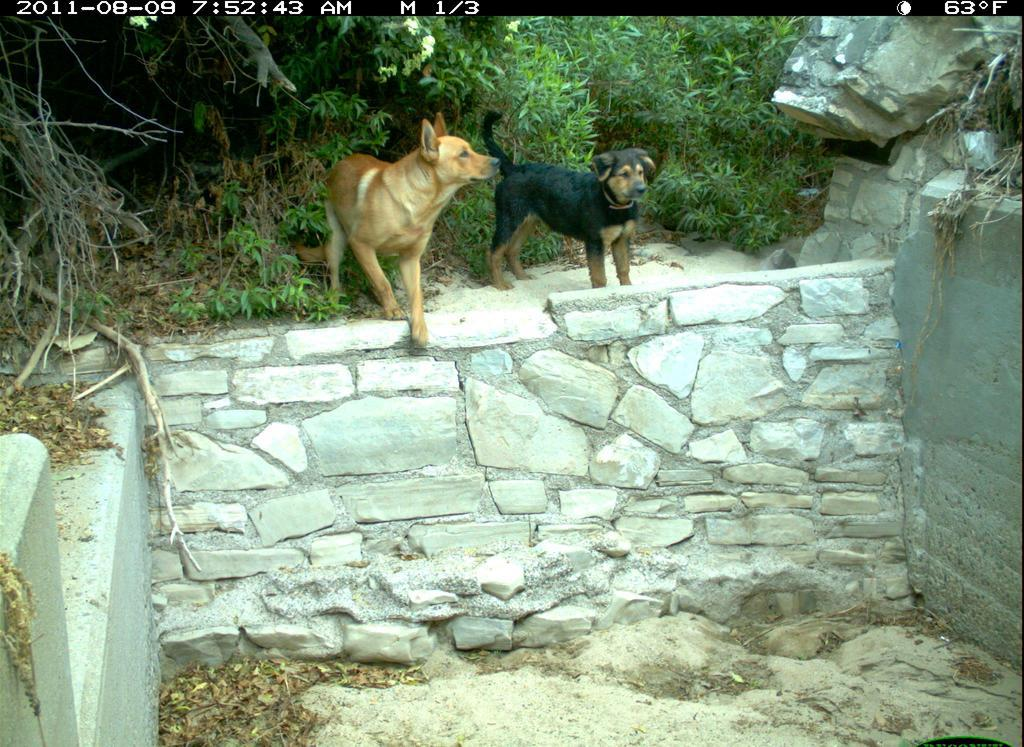dog: (294, 105, 501, 367), (482, 104, 662, 306)
